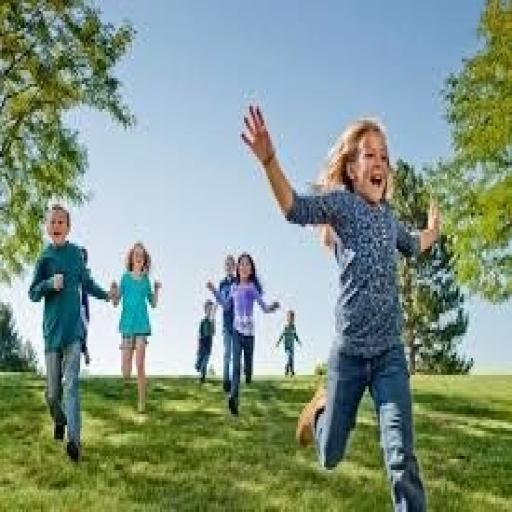running: (238, 101, 443, 509), (26, 202, 121, 464), (205, 249, 283, 420), (108, 238, 164, 417)
